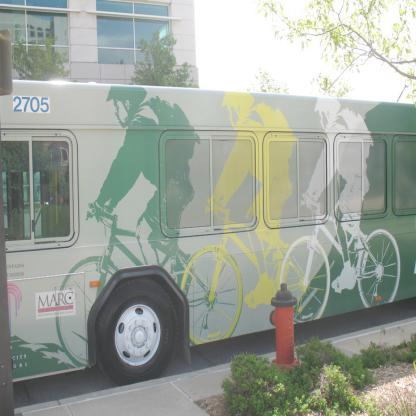Bus: (0, 81, 416, 384)
